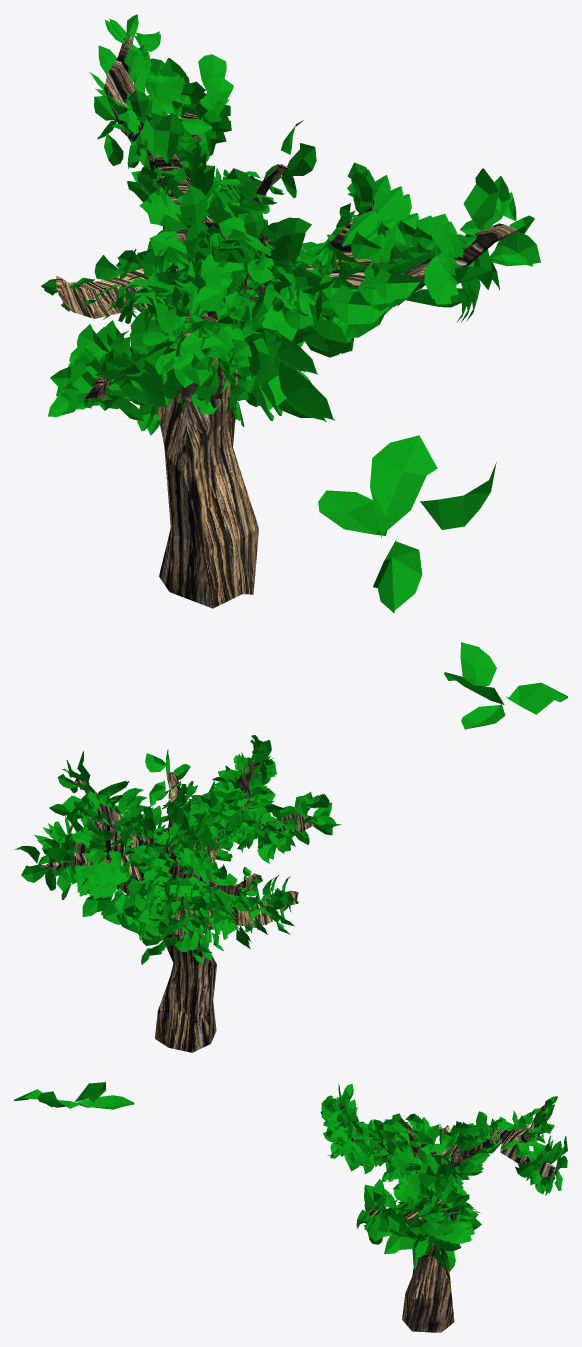
File: Tree.fbx
3 views of the same model, one above another, from view 1: azimuth 30°, elevation 25°; view 2: azimuth 150°, elevation 25°; view 3: azimuth 270°, elevation 25° (orthographic). The views are drawn at different scales.
Parts seen in each view (by area): view 1: TreeBase, Leaf, TreeTop, TreeTop|Leaf|Dupli|425.0, TreeTop|Leaf|Dupli|436.0, TreeTop|Leaf|Dupli|430.0, TreeTop|Leaf|Dupli|288.0, TreeTop|Leaf|Dupli|439.0, TreeTop|Leaf|Dupli|368.0, TreeTop|Leaf|Dupli|169.0, TreeTop|Leaf|Dupli|437.0, TreeTop|Leaf|Dupli|471.0 (+31 smaller); view 2: TreeTop, TreeBase, Leaf, TreeTop|Leaf|Dupli|330.0, TreeTop|Leaf|Dupli|471.0, TreeTop|Leaf|Dupli|438.0, TreeTop|Leaf|Dupli|451.0, TreeTop|Leaf|Dupli|277.0, TreeTop|Leaf|Dupli|270.0, TreeTop|Leaf|Dupli|380.0; view 3: TreeBase, TreeTop, Leaf, TreeTop|Leaf|Dupli|436.0, TreeTop|Leaf|Dupli|465.0, TreeTop|Leaf|Dupli|471.0, TreeTop|Leaf|Dupli|437.0, TreeTop|Leaf|Dupli|403.0, TreeTop|Leaf|Dupli|382.0, TreeTop|Leaf|Dupli|330.0, TreeTop|Leaf|Dupli|327.0, TreeTop|Leaf|Dupli|468.0 (+4 smaller).
Part boxes in pixels (bbox=[...]): TreeBase: bbox=[156, 398, 258, 608]; Leaf: bbox=[318, 435, 496, 613]; TreeTop: bbox=[56, 34, 516, 402]; TreeTop|Leaf|Dupli|425.0: bbox=[329, 262, 471, 337]; TreeTop|Leaf|Dupli|436.0: bbox=[463, 168, 540, 290]; TreeTop|Leaf|Dupli|430.0: bbox=[371, 251, 488, 307]; TreeTop|Leaf|Dupli|288.0: bbox=[137, 185, 207, 262]; TreeTop|Leaf|Dupli|439.0: bbox=[458, 176, 532, 289]; TreeTop|Leaf|Dupli|368.0: bbox=[64, 359, 143, 420]; TreeTop|Leaf|Dupli|169.0: bbox=[231, 250, 322, 329]; TreeTop|Leaf|Dupli|437.0: bbox=[431, 227, 480, 321]; TreeTop|Leaf|Dupli|471.0: bbox=[263, 120, 316, 198]; TreeTop: bbox=[39, 759, 313, 940]; TreeBase: bbox=[155, 934, 216, 1052]; Leaf: bbox=[444, 642, 567, 729]; TreeTop|Leaf|Dupli|330.0: bbox=[14, 845, 66, 890]; TreeTop|Leaf|Dupli|471.0: bbox=[145, 749, 190, 806]; TreeTop|Leaf|Dupli|438.0: bbox=[50, 781, 129, 815]; TreeTop|Leaf|Dupli|451.0: bbox=[190, 861, 226, 906]; TreeTop|Leaf|Dupli|277.0: bbox=[279, 794, 332, 835]; TreeTop|Leaf|Dupli|270.0: bbox=[240, 822, 290, 864]; TreeTop|Leaf|Dupli|380.0: bbox=[103, 879, 147, 924]; TreeBase: bbox=[402, 1239, 454, 1332]; TreeTop: bbox=[340, 1103, 559, 1248]; Leaf: bbox=[14, 1082, 134, 1109]; TreeTop|Leaf|Dupli|436.0: bbox=[356, 1179, 392, 1241]; TreeTop|Leaf|Dupli|465.0: bbox=[399, 1117, 456, 1186]; TreeTop|Leaf|Dupli|471.0: bbox=[382, 1113, 433, 1144]; TreeTop|Leaf|Dupli|437.0: bbox=[364, 1187, 406, 1244]; TreeTop|Leaf|Dupli|403.0: bbox=[443, 1184, 478, 1235]; TreeTop|Leaf|Dupli|382.0: bbox=[384, 1185, 479, 1254]; TreeTop|Leaf|Dupli|330.0: bbox=[545, 1136, 567, 1195]; TreeTop|Leaf|Dupli|327.0: bbox=[518, 1143, 560, 1193]; TreeTop|Leaf|Dupli|468.0: bbox=[398, 1122, 447, 1183].
Size of the model in its own units: 231 by 208 by 441.
Materials: 2 (1 with a texture image).
